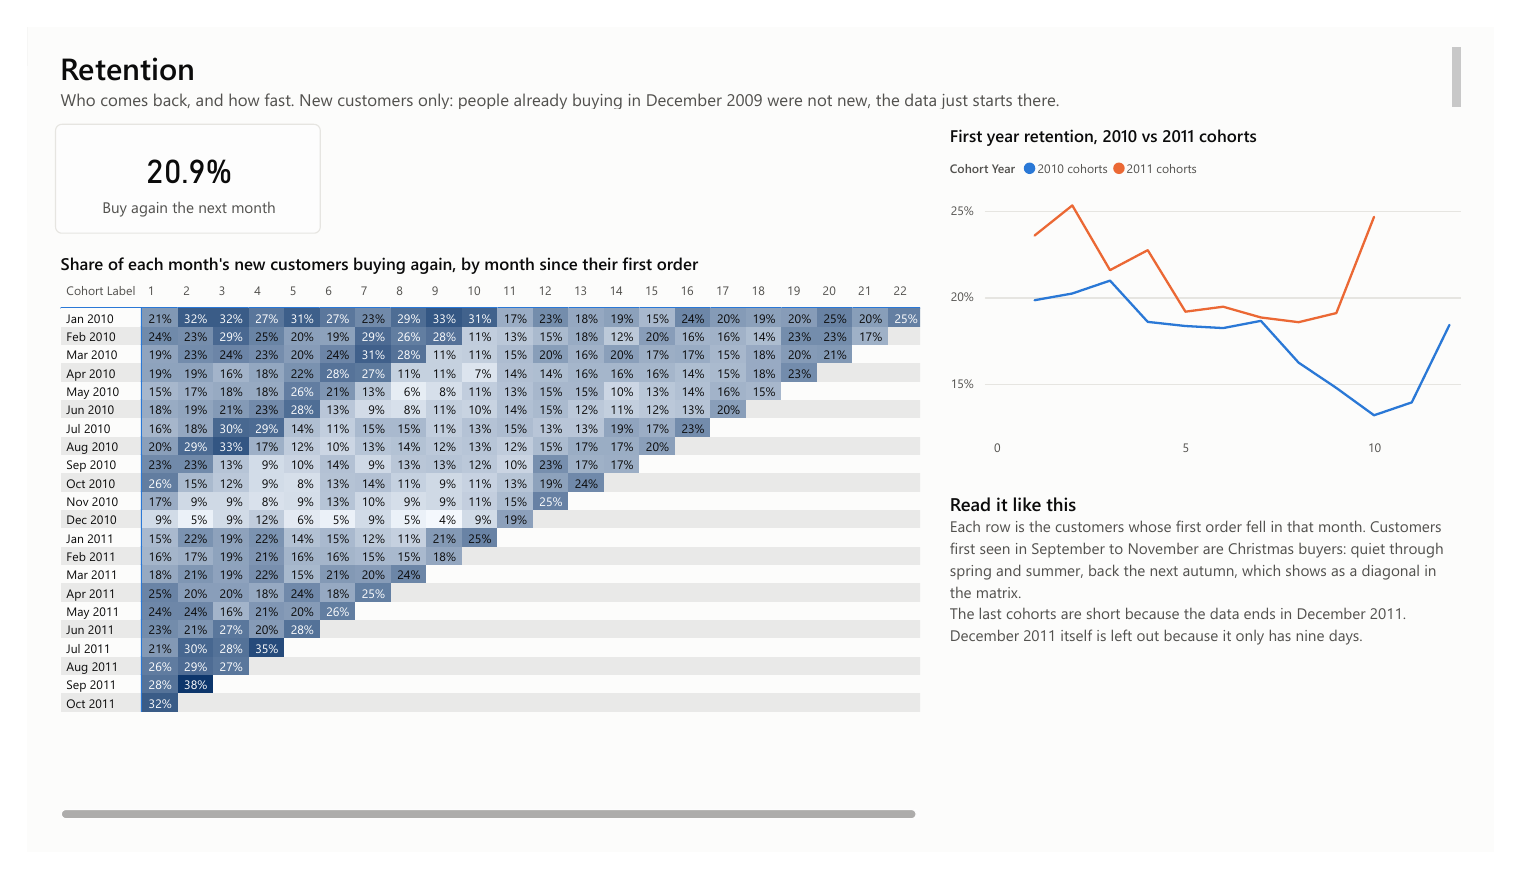

What the dashboard file says about the page in this screenshot:
{"tool":"powerbi","page":{"name":"Retention","canvas":[1280,720],"ordinal":1},"visuals":[{"type":"textbox","box":[24,12,1232,64],"z":0},{"type":"card","title":"Buy again the next month","fields":{"Values":["_Measures.Month 1 Retention"]},"box":[24,84,232,96],"z":1000},{"type":"pivotTable","title":"Share of each month's new customers buying again, by month since their first order","fields":{"Columns":["fact_cohort.Months Since First Purchase"],"Rows":["fact_cohort.Cohort Label"],"Values":["_Measures.New Customer Retention"]},"box":[24,196,760,500],"z":2000},{"type":"lineChart","title":"First year retention, 2010 vs 2011 cohorts","fields":{"Category":["fact_cohort.Months Since First Purchase"],"Series":["fact_cohort.Cohort Year"],"Y":["_Measures.Retention First Year"]},"box":[800,84,456,300],"z":3000},{"type":"textbox","box":[800,400,456,296],"z":4000}]}

Visuals, with their boxes in screenshot pixels (x1, y1, x2, y2), scaled from the page's 1280x720 canvas onto the 1522x880 screenshot:
textbox: box(29, 15, 1493, 93)
"Buy again the next month" card: box(29, 103, 304, 220)
"Share of each month's new customers buying again, by month since their first order" pivotTable: box(29, 240, 932, 851)
"First year retention, 2010 vs 2011 cohorts" lineChart: box(951, 103, 1493, 469)
textbox: box(951, 489, 1493, 851)
